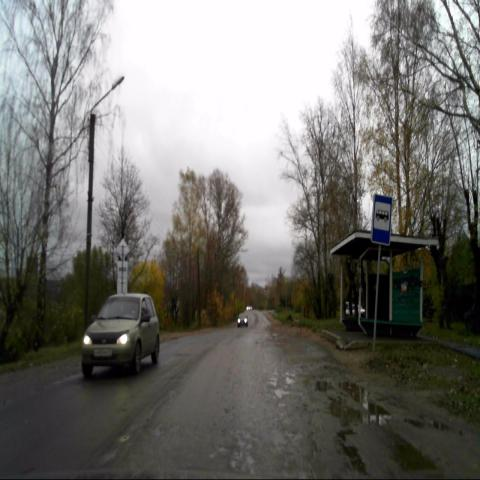5_16: (371, 193, 393, 246)
